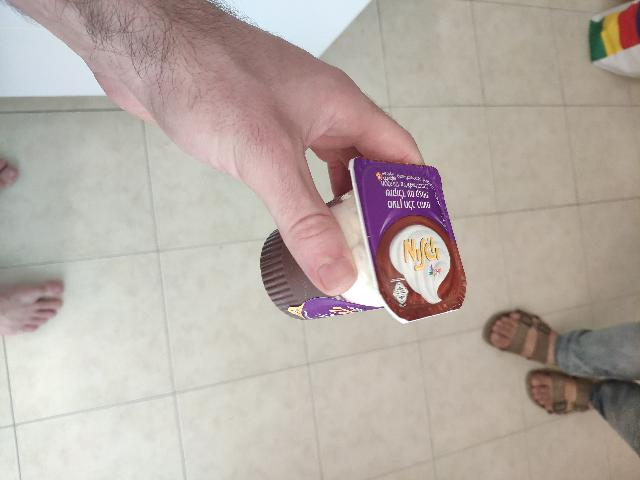milky: (336, 167, 480, 367)
